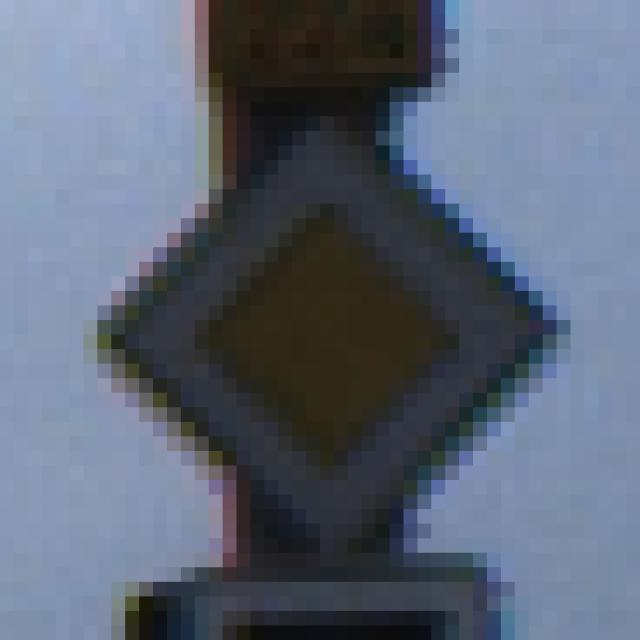Main Road: (71, 74, 572, 568)
